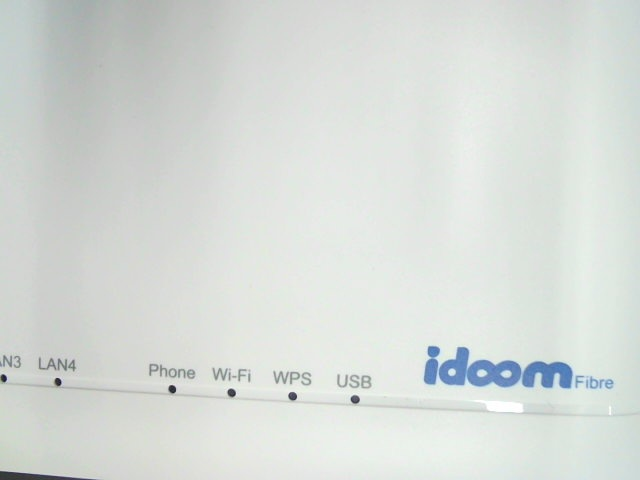BB_idoom: (408, 319, 621, 404)
